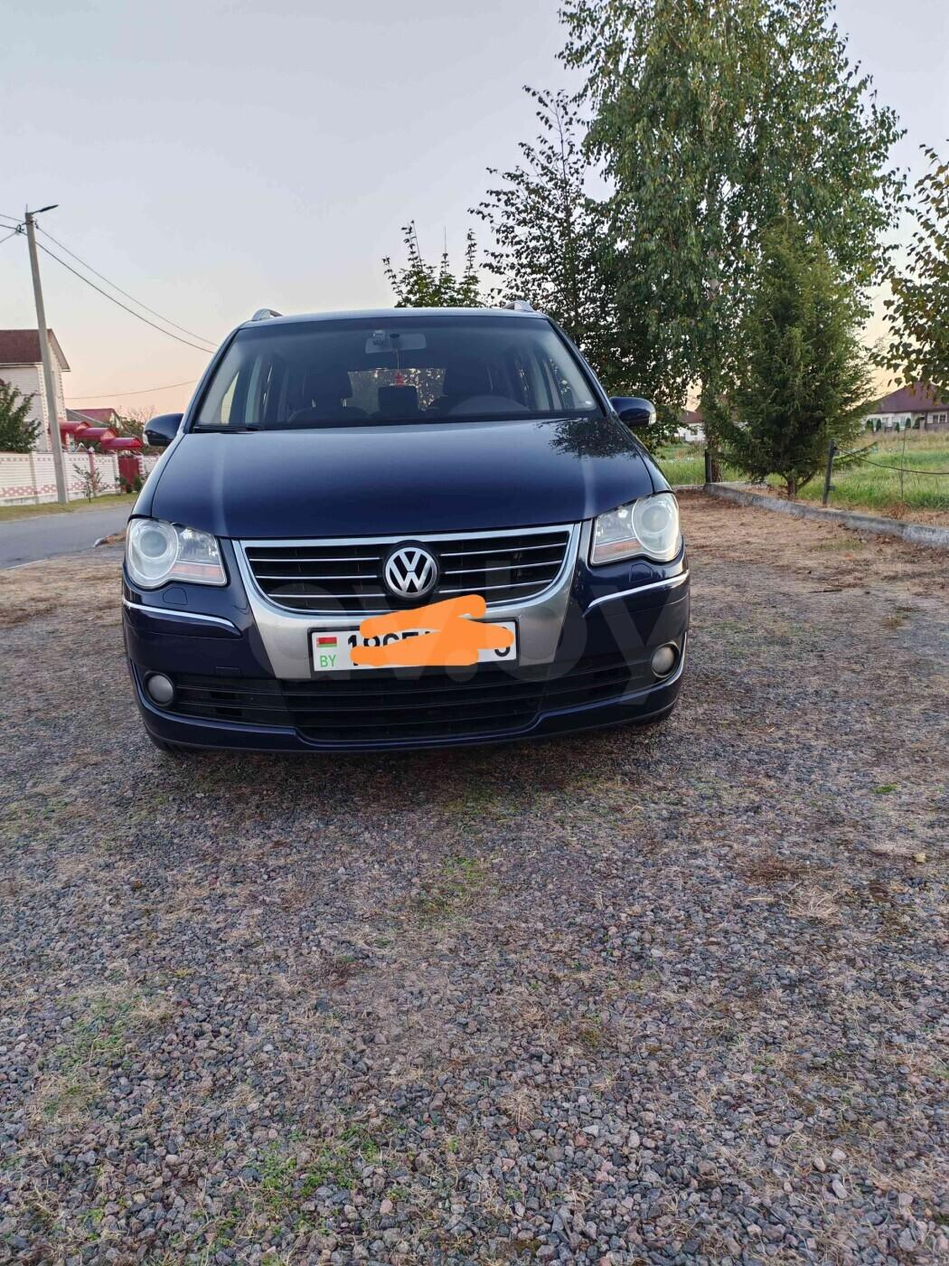Touran_2006-2010: (123, 306, 696, 756)
